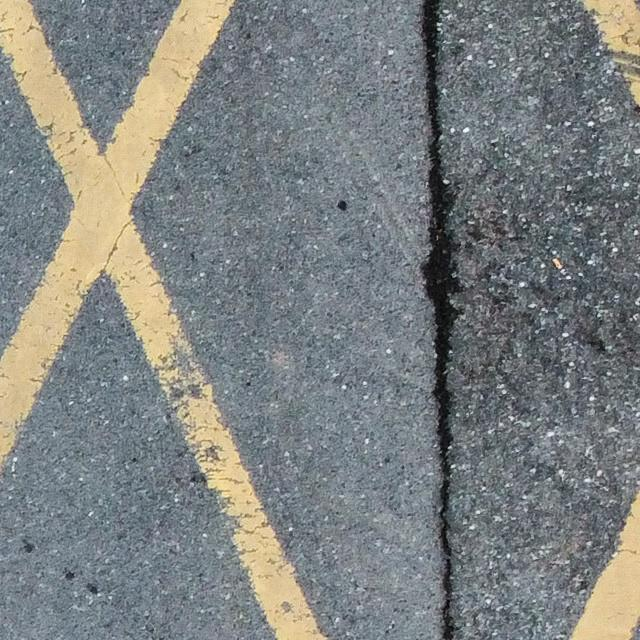LongitudinalCrack: (418, 1, 455, 640)
